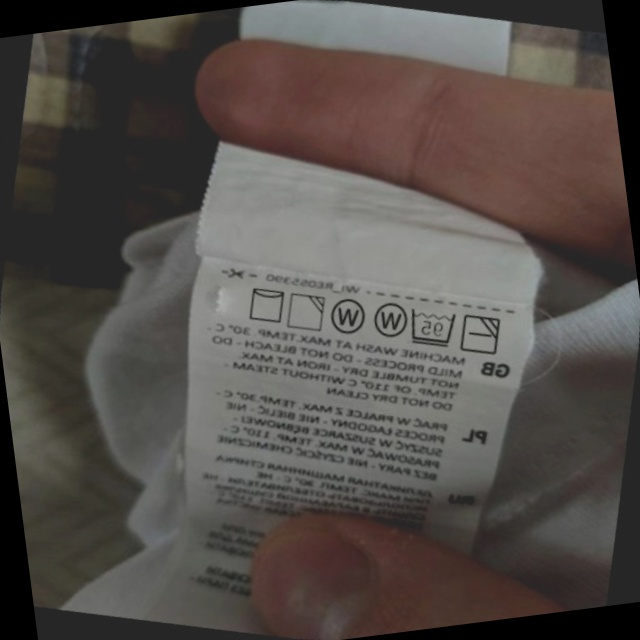95C: (400, 299, 464, 355)
dry_flat_in_shade: (453, 305, 509, 363)
line_dry: (239, 278, 293, 331)
shade_dry: (279, 285, 333, 339)
wet_clean: (322, 290, 373, 343), (364, 292, 414, 345)
